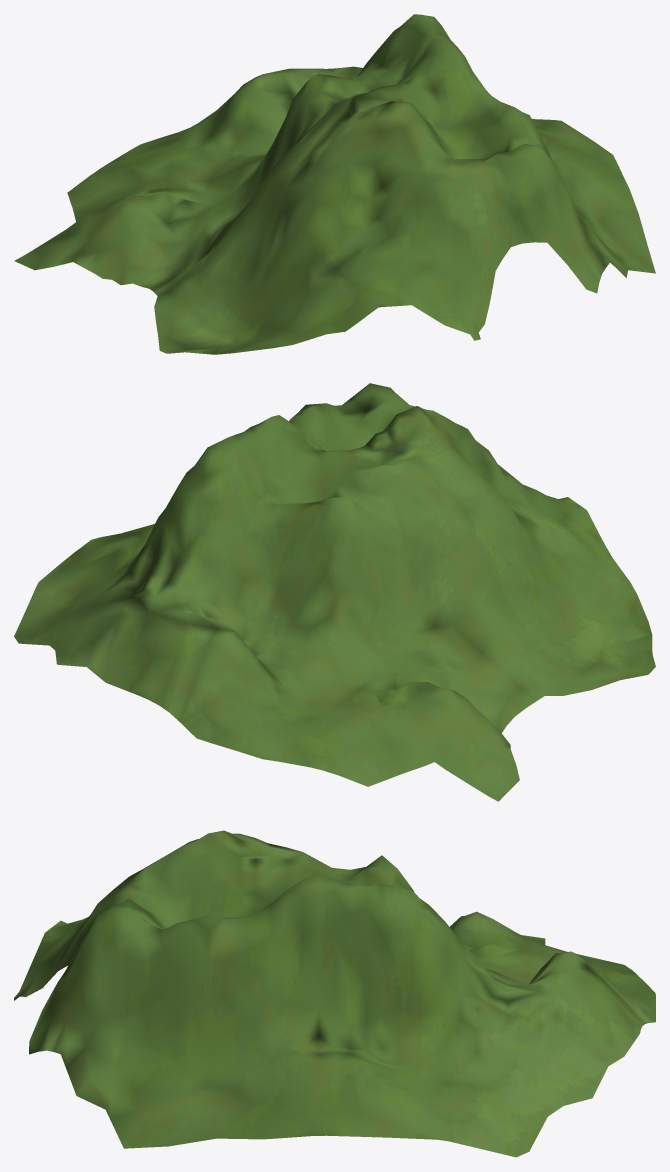
The model's file is Offroad Mountain.fbx.
3 views of the same model, one above another, from view 1: azimuth 30°, elevation 25°; view 2: azimuth 150°, elevation 25°; view 3: azimuth 270°, elevation 25° (orthographic). The views are drawn at different scales.
Parts seen in each view (by area): view 1: Off_Road_Mountain; view 2: Off_Road_Mountain; view 3: Off_Road_Mountain.
Part boxes in pixels (x1=…): Off_Road_Mountain: x1=14, y1=14, x2=655, y2=354; Off_Road_Mountain: x1=14, y1=383, x2=655, y2=801; Off_Road_Mountain: x1=14, y1=830, x2=655, y2=1157.
Size of the model in its own units: 15487 by 6475 by 16088.
